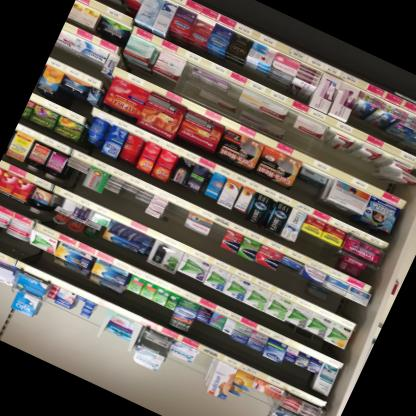empty_space: (155, 202, 188, 240), (184, 351, 216, 390), (200, 223, 227, 258), (82, 304, 107, 339)
